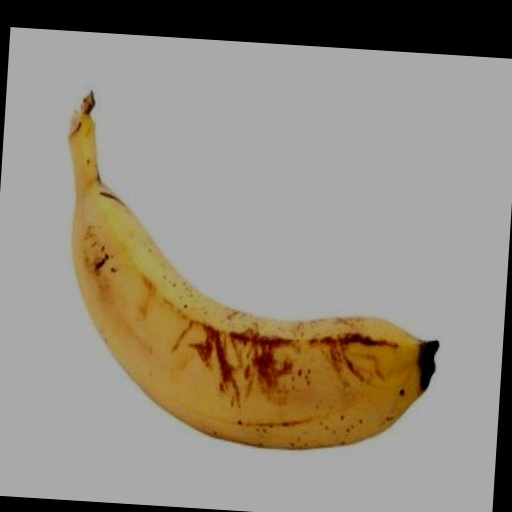fruit: (70, 94, 438, 448)
